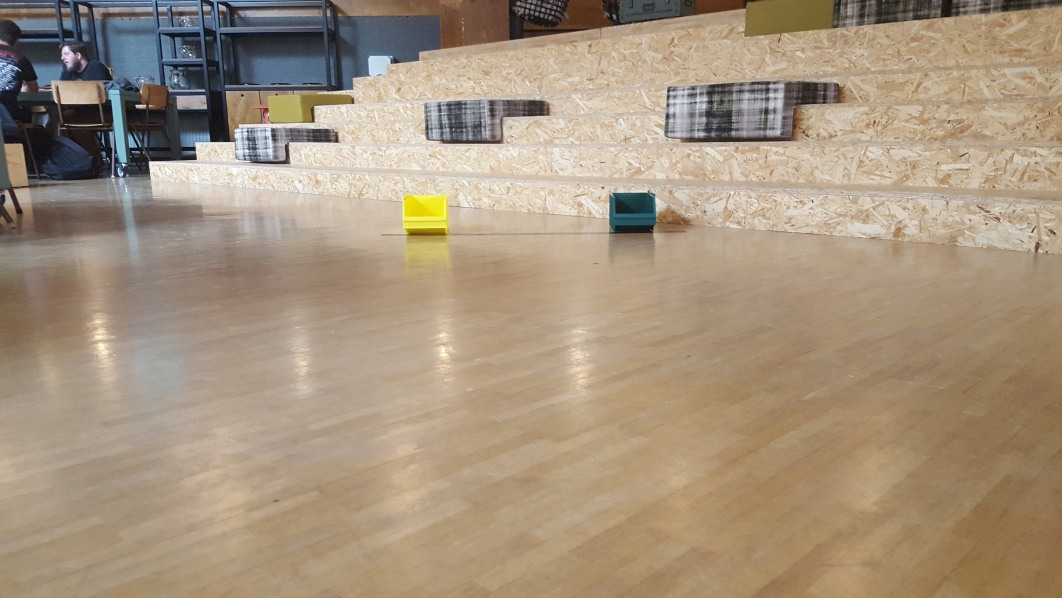tray: (607, 187, 659, 229), (402, 194, 450, 239)
